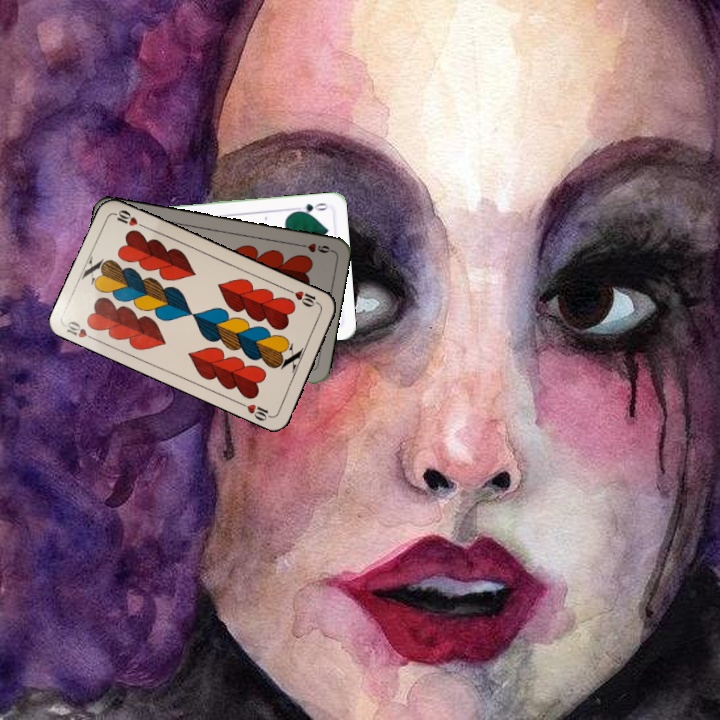GO: (290, 199, 331, 217)
H10: (62, 317, 100, 344), (284, 285, 323, 310)
H9: (294, 239, 334, 256)
